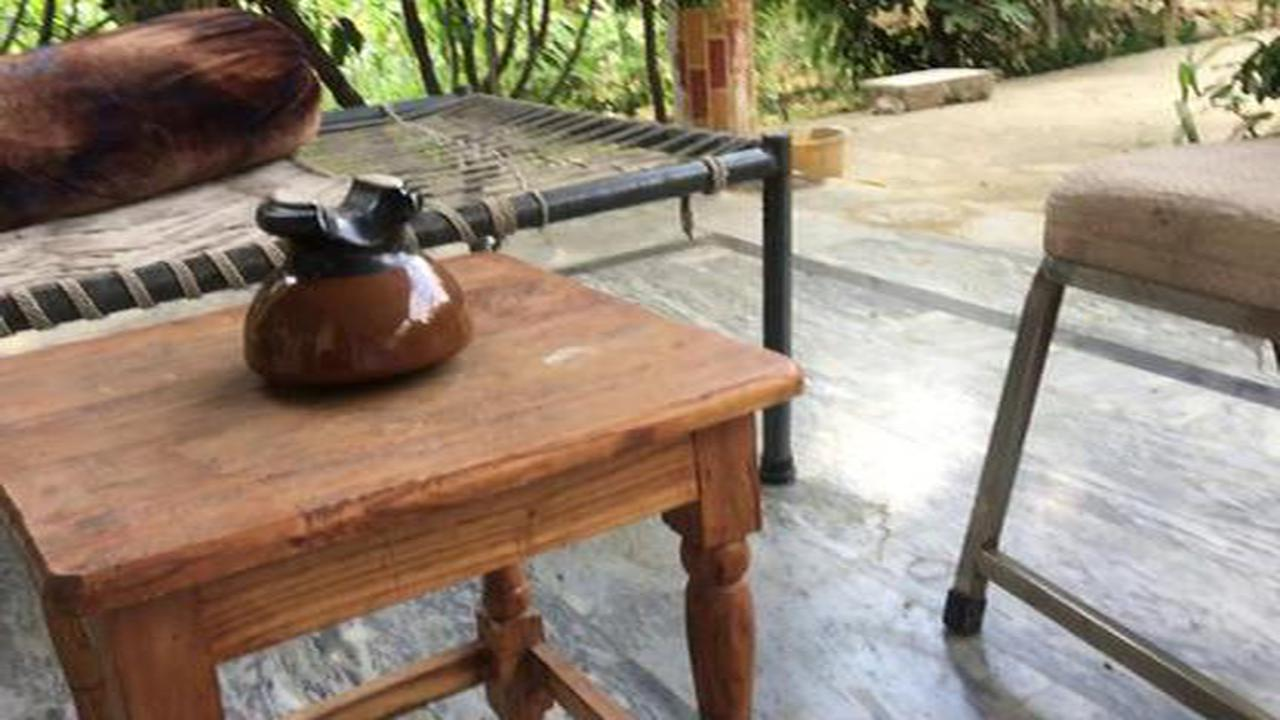insulator_pin: (219, 158, 474, 407)
